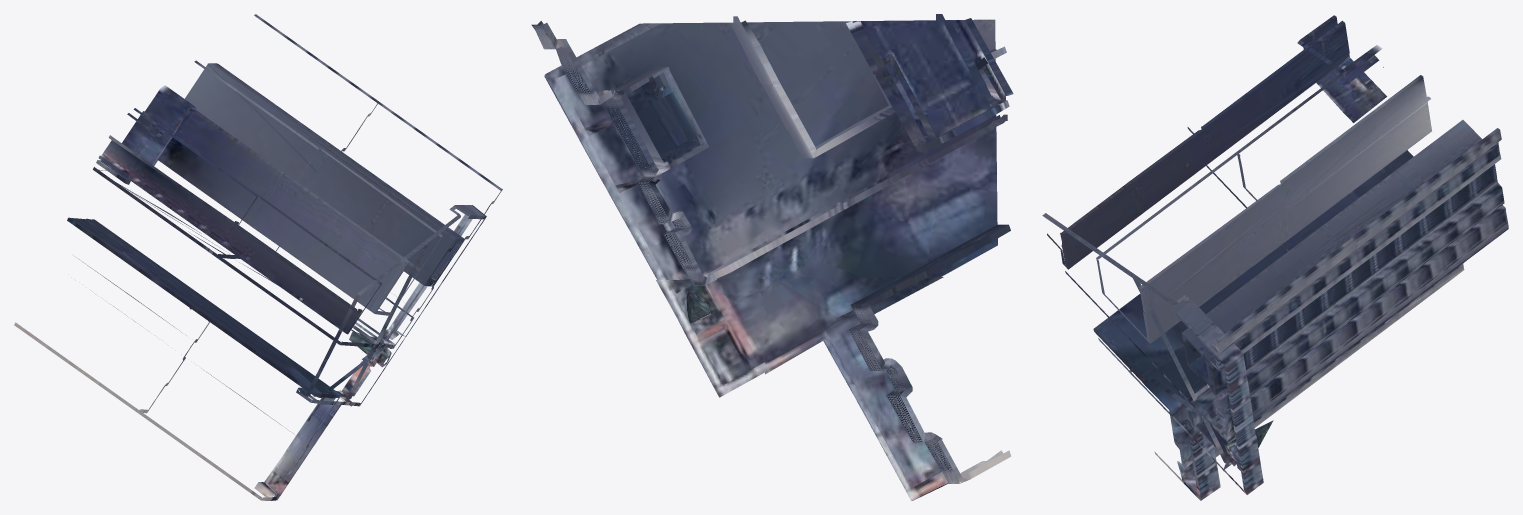
The picture shows the model from 3 angles, left to right: view 1: azimuth 30°, elevation 25°; view 2: azimuth 150°, elevation 25°; view 3: azimuth 270°, elevation 25°; orthographic projection. The views are drawn at different scales.
Size of the model in its own units: 53.72 by 47.81 by 46.65.
2 materials, 2 textured.
